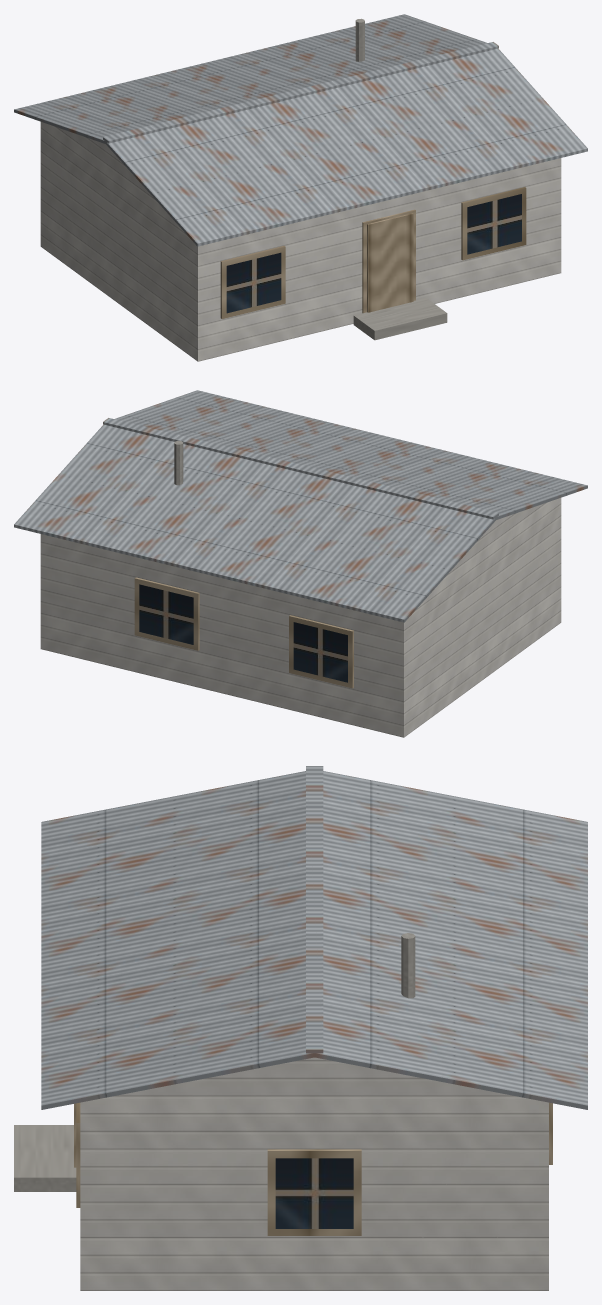
File: house_tin_house.glb
3 renders of one model, top to bottom at view 1: azimuth 30°, elevation 25°; view 2: azimuth 150°, elevation 25°; view 3: azimuth 270°, elevation 25°, orthographic. The views are drawn at different scales.
Parts seen in each view (by area): view 1: LOD0; view 2: LOD0; view 3: LOD0.
Boxes of the visible parts, x1,y1,x2,y2 form: LOD0: (14,14,587,361); LOD0: (14,390,587,737); LOD0: (14,766,587,1290).
Size of what is drawn, in the model's own units: 8.6 by 4.12 by 7.35.
3 materials, 3 textured.
